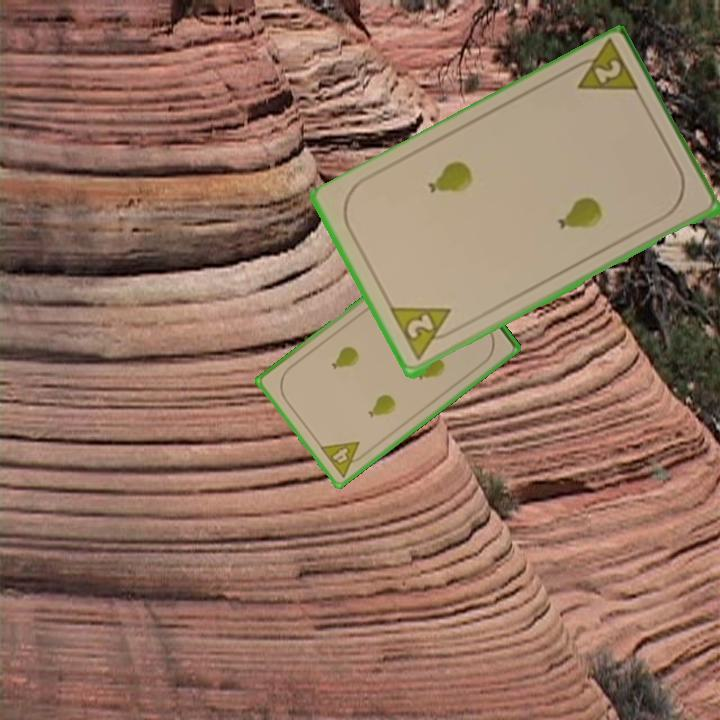2p: (563, 38, 643, 98), (387, 303, 462, 364)
4p: (316, 438, 370, 481)
